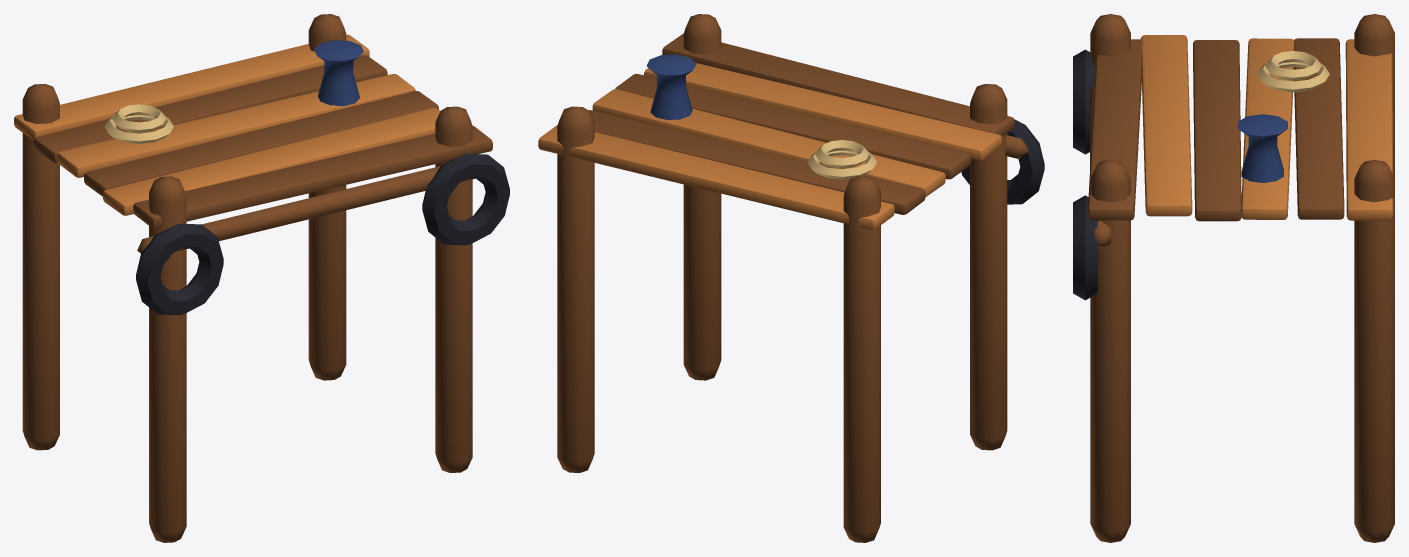
Rendered from W1_Dock.fbx.
The picture shows the model from 3 angles, left to right: view 1: azimuth 30°, elevation 25°; view 2: azimuth 150°, elevation 25°; view 3: azimuth 270°, elevation 25°; orthographic projection. The views are drawn at different scales.
Visible parts, largest first — view 1: W1_Dock; view 2: W1_Dock; view 3: W1_Dock.
Part boxes in pixels (x1,y1,x2,y2): W1_Dock: (14,14,509,542); W1_Dock: (538,14,1044,542); W1_Dock: (1073,14,1394,542).
Size of the model in its own units: 4.44 by 4.36 by 3.17.
